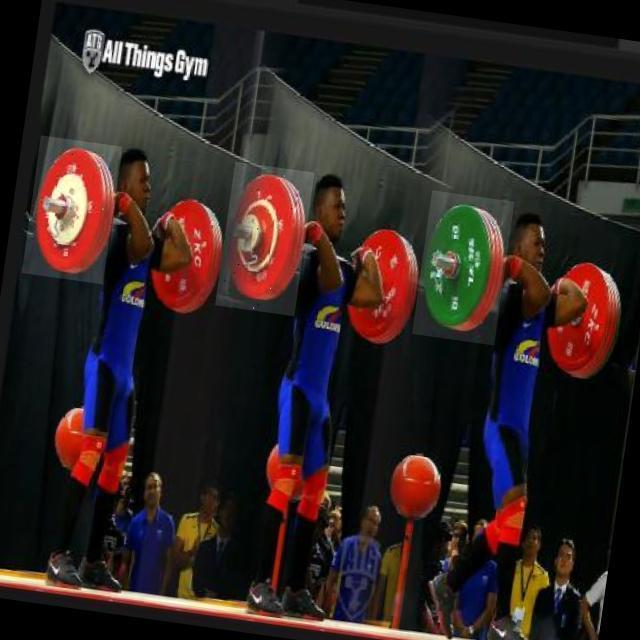barbell: (413, 192, 515, 347), (217, 163, 316, 318), (23, 137, 123, 286)
